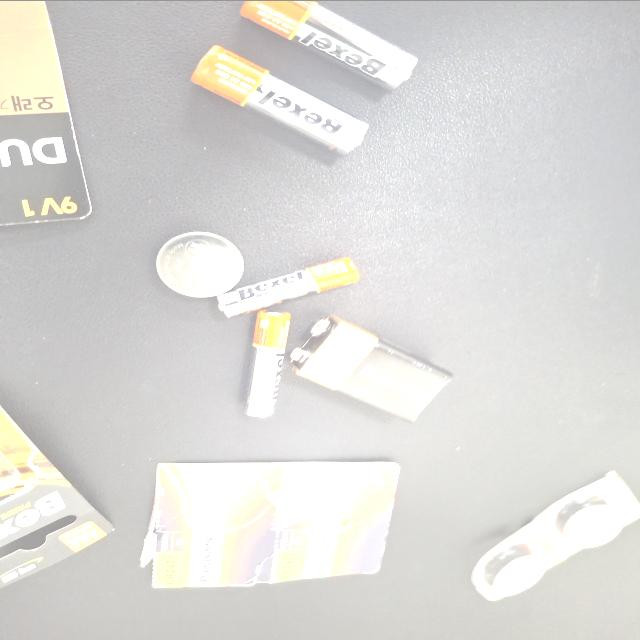9V: (418, 303, 560, 422)
AA: (59, 364, 202, 496), (0, 327, 117, 460)
AAA: (342, 371, 422, 477), (413, 422, 555, 455)
COIN: (308, 457, 396, 523)
